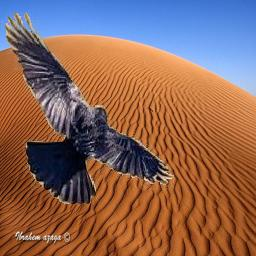Crow: (2, 4, 179, 205)
